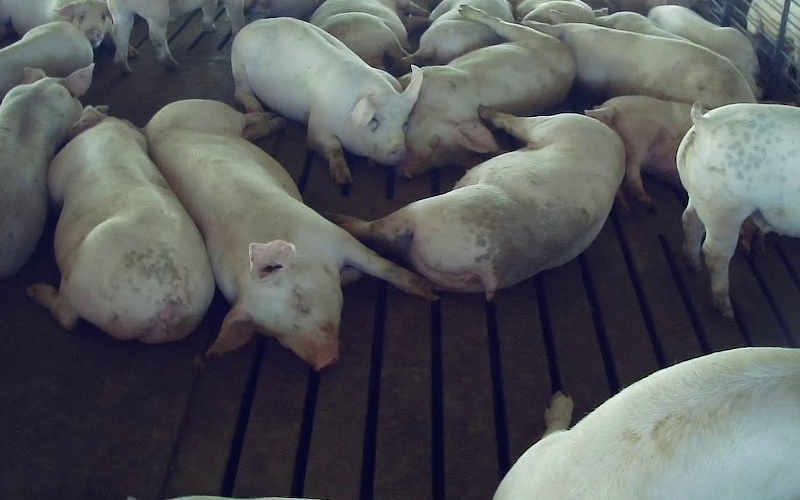pig: (145, 99, 434, 369), (334, 107, 624, 299), (495, 348, 799, 499), (28, 106, 213, 342), (231, 18, 422, 183), (677, 102, 799, 316), (524, 10, 755, 108), (0, 64, 92, 278), (648, 5, 758, 95), (603, 95, 692, 206), (310, 0, 428, 68), (0, 21, 92, 101), (408, 0, 513, 65)
